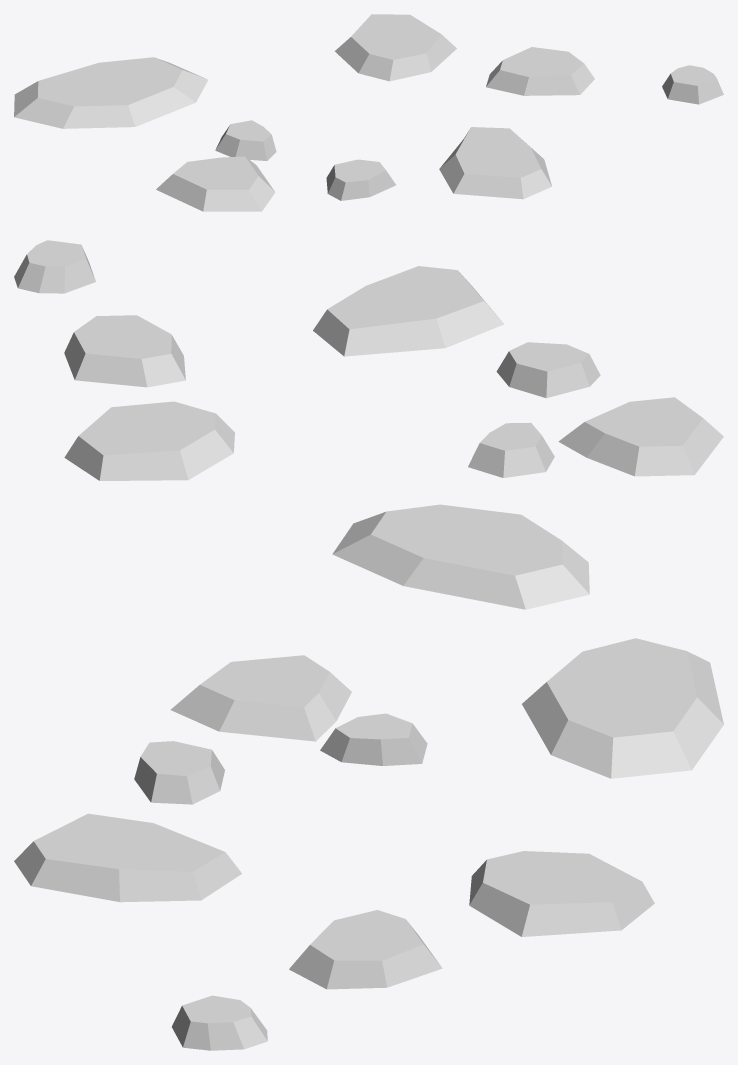
Rendered from stone_012.fbx.
3 renders of one model, top to bottom at view 1: azimuth 30°, elevation 25°; view 2: azimuth 150°, elevation 25°; view 3: azimuth 270°, elevation 25°, orthographic. The views are drawn at different scales.
Visible parts, largest first — view 1: stone.012; view 2: stone.012; view 3: stone.012.
Part boxes in pixels (x1,y1,x2,y2): stone.012: (14,14,723,211); stone.012: (14,240,723,609); stone.012: (14,638,723,1050).
Bounding box in the file's own units: 678 × 17.93 × 501.
1 material, 1 textured.
